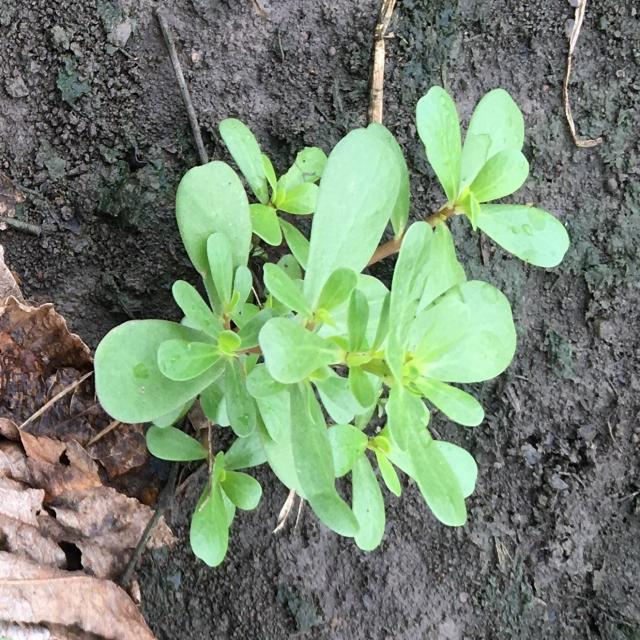Purslane: (94, 86, 570, 569)
